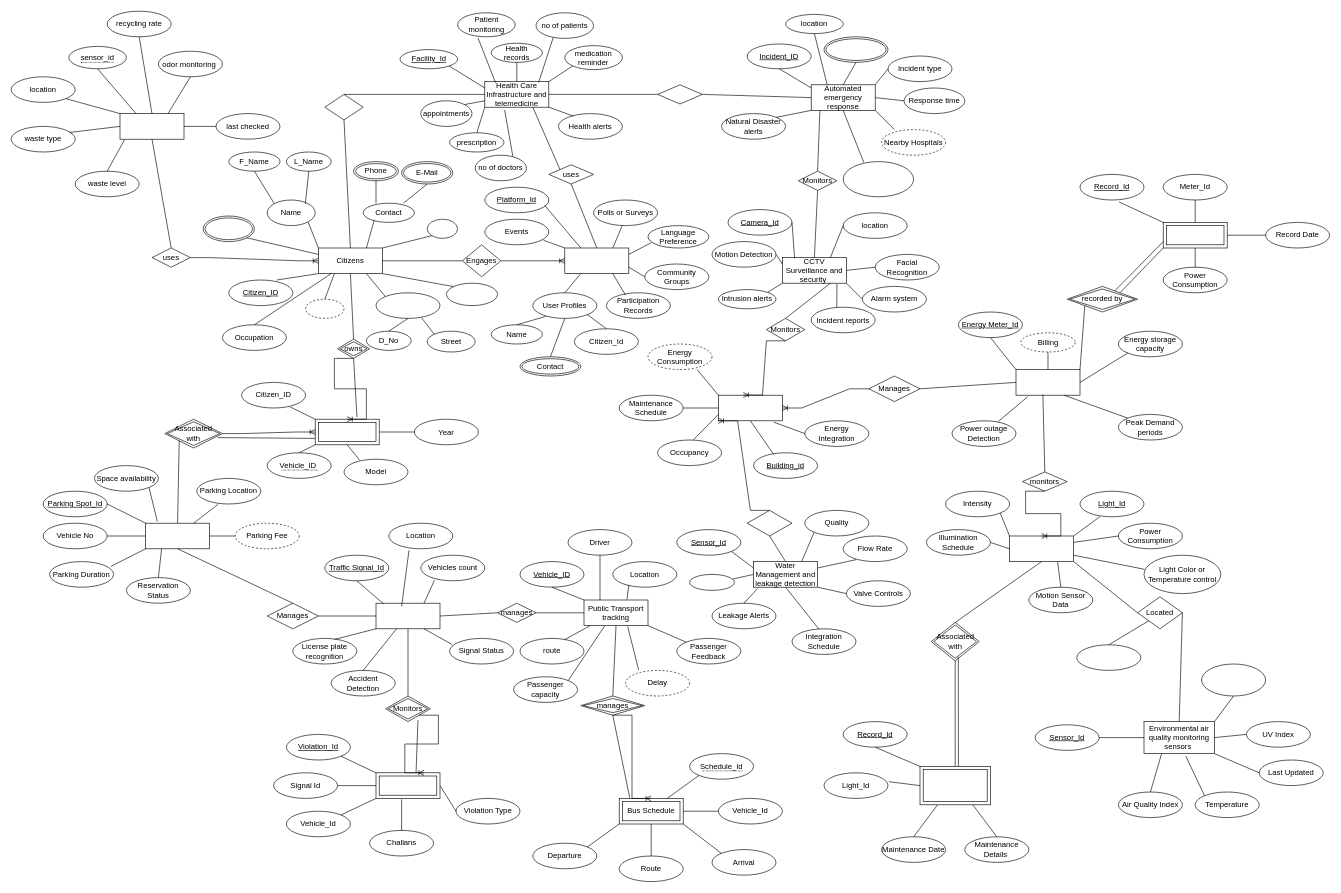
Some shapes in this 1341 by 893 pixel diagram are drawn without their labels. Here are the shapes that lost their labels. From the top down, the centre of each, then its label:
the point at 855,49: Emergency contact Info
the point at 343,107: Utilizes
the point at 679,94: alerts
the point at 151,126: Waste management
the point at 878,179: Emergency Service Deployment
the point at 228,228: Languages known
the point at 442,228: DOB
the point at 1195,235: Energy usage record
the point at 596,260: Citizen Engagement platforms
the point at 324,308: age
the point at 407,305: Address
the point at 472,294: Education level
the point at 1047,382: Smart Energy management
the point at 750,408: Smart Buildings
the point at 347,432: Vehicle
the point at 177,536: Smart Parking
the point at 769,523: detects
the point at 1041,548: Smart Street lights
the point at 711,582: Usage
the point at 407,616: Intelligent traffic management
the point at 1108,657: Coordinates
the point at 1233,679: Wind Speed And Direction
the point at 407,785: Traffic Violation
the point at 954,785: Light maintainance record
